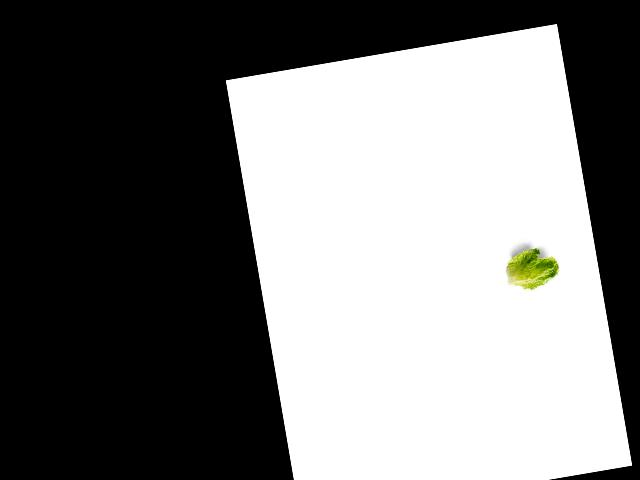lettuce: (497, 243, 565, 295)
